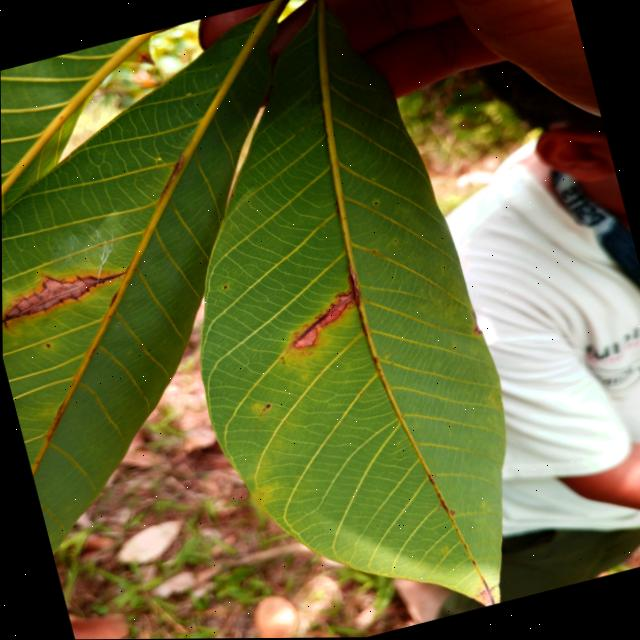Colletotrichum: (374, 202, 378, 206), (223, 285, 226, 288)
Corynespora: (1, 255, 132, 332), (291, 312, 331, 340)
Leaf-Blight: (284, 293, 363, 351)
